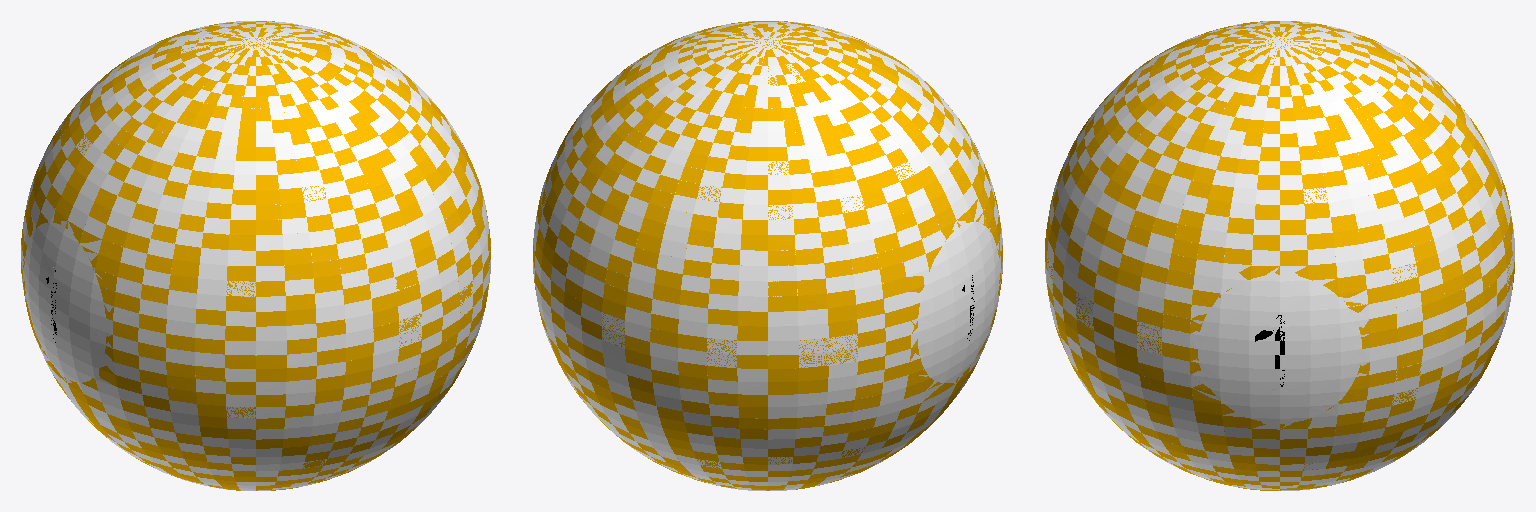
The model's file is ball_1_center.obj.
The picture shows the model from 3 angles: view 1: azimuth 30°, elevation 25°; view 2: azimuth 150°, elevation 25°; view 3: azimuth 270°, elevation 25°; orthographic projection.
Visible parts, largest first — view 1: Mesh1 G_1_Ball1 Component_1_1 Model; view 2: Mesh1 G_1_Ball1 Component_1_1 Model; view 3: Mesh1 G_1_Ball1 Component_1_1 Model.
Boxes of the visible parts, x1,y1,x2,y2 form: Mesh1 G_1_Ball1 Component_1_1 Model: [21, 21, 490, 490]; Mesh1 G_1_Ball1 Component_1_1 Model: [533, 21, 1002, 490]; Mesh1 G_1_Ball1 Component_1_1 Model: [1045, 21, 1514, 490].
Bounding box in the file's own units: 2 × 2 × 2.